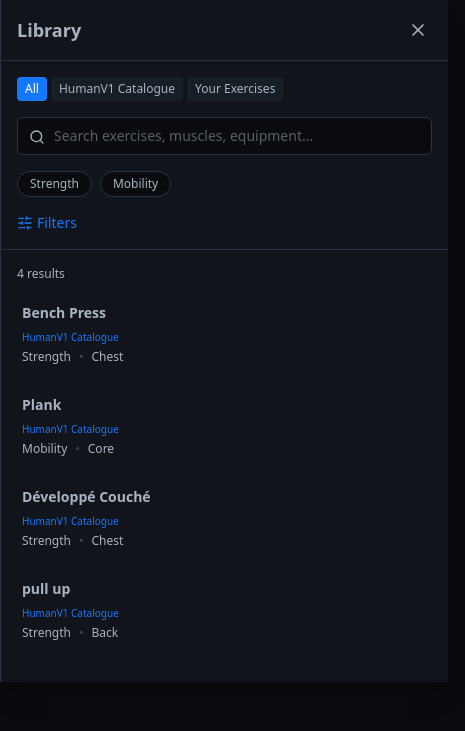
Test: filter semantics (OR within group, AND between groups)
The width and height of the screenshot is (465, 731).
What coordinates should you click on to do the following:
click the button "Strength"
I would click on:
 (54, 184)
Its box is [17,171,92,197].
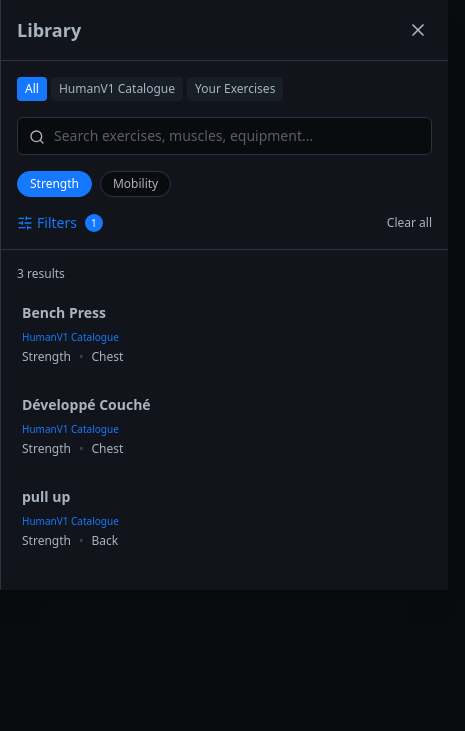
Expected: the text "Bench Press" is shown, [22,303,106,322]
Expected: the button "Plank" is gone
What coordinates should you click on to do the following:
click the button "Mobility"
I would click on:
 (136, 184)
Its box is [100,171,171,197].
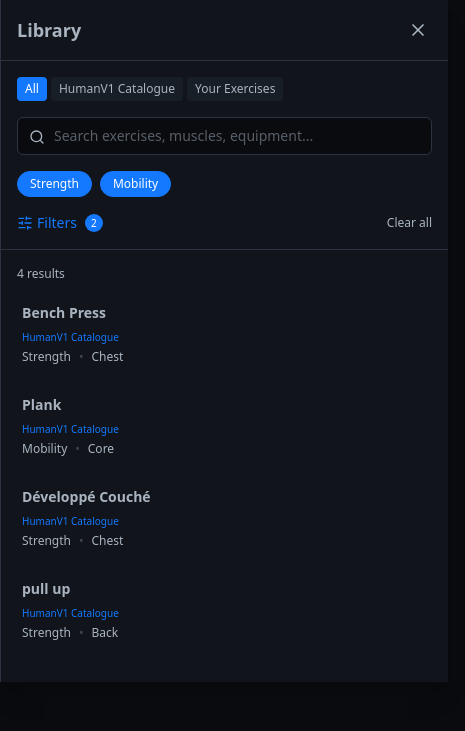
Expected: the text "Plank" is shown, [22,395,61,414]
// Expand advanced
What coordinates should you click on to do the following:
click the button "Filters 2"
I would click on:
 (60, 223)
Its box is [17,213,103,233].
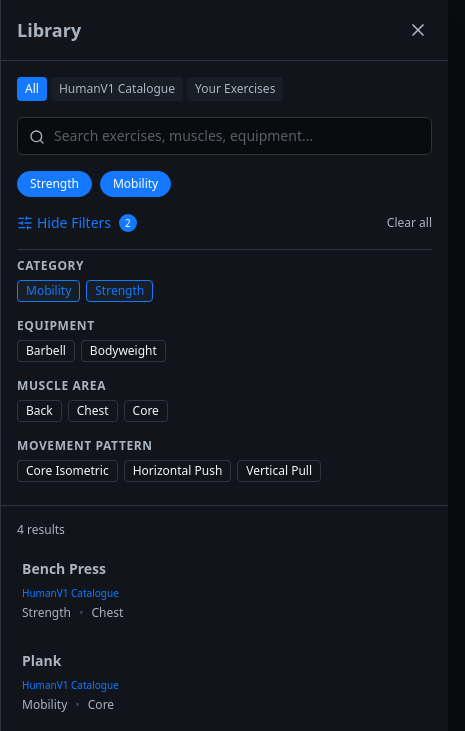
What coordinates should you click on to do the following:
click the button "Bodyweight"
I would click on:
 (123, 351)
Its box is [81,340,166,362].
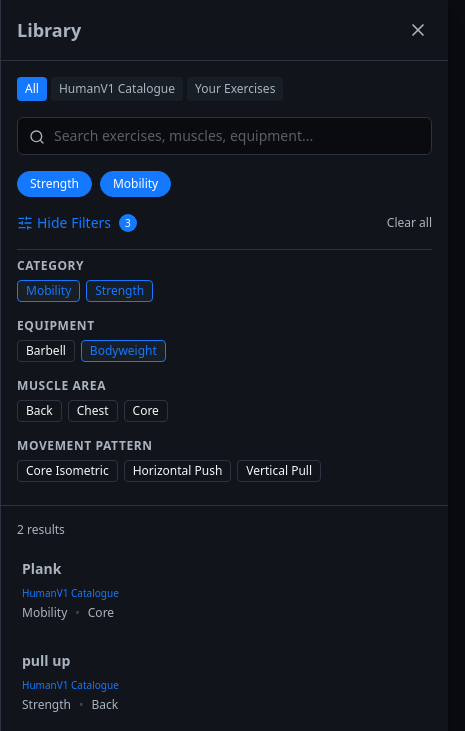
Expected: the text "pull up" is shown, [22,651,70,670]
Expected: the text "Plank" is shown, [22,559,61,578]
Expected: the button "Bench Press" is gone
